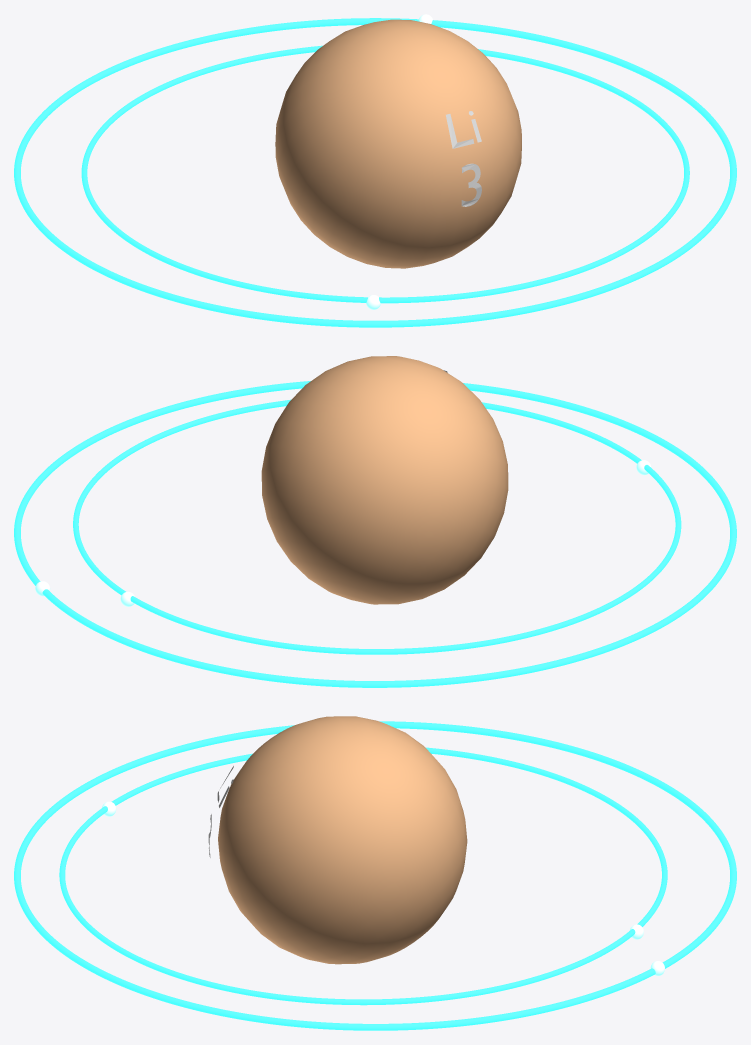
File: Lithium.fbx
3 renders of one model, top to bottom at view 1: azimuth 30°, elevation 25°; view 2: azimuth 150°, elevation 25°; view 3: azimuth 270°, elevation 25°, orthographic.
Parts seen in each view (by area): view 1: Sphere.280, BézierCircle.016, BézierCircle.022, Text.006; view 2: Sphere.280, BézierCircle.016, BézierCircle.022; view 3: Sphere.280, BézierCircle.016, BézierCircle.022.
Part boxes in pixels (x1,y1,x2,y2): Sphere.280: (275, 19, 521, 268); BézierCircle.016: (14, 18, 736, 327); BézierCircle.022: (81, 45, 689, 303); Text.006: (446, 111, 481, 206); Sphere.280: (261, 356, 508, 604); BézierCircle.016: (14, 381, 736, 687); BézierCircle.022: (73, 399, 681, 654); Sphere.280: (218, 716, 467, 964); BézierCircle.016: (14, 721, 736, 1030); BézierCircle.022: (59, 747, 667, 1005).
Bounding box in the file's own units: 68.84 × 23.76 × 68.84.
